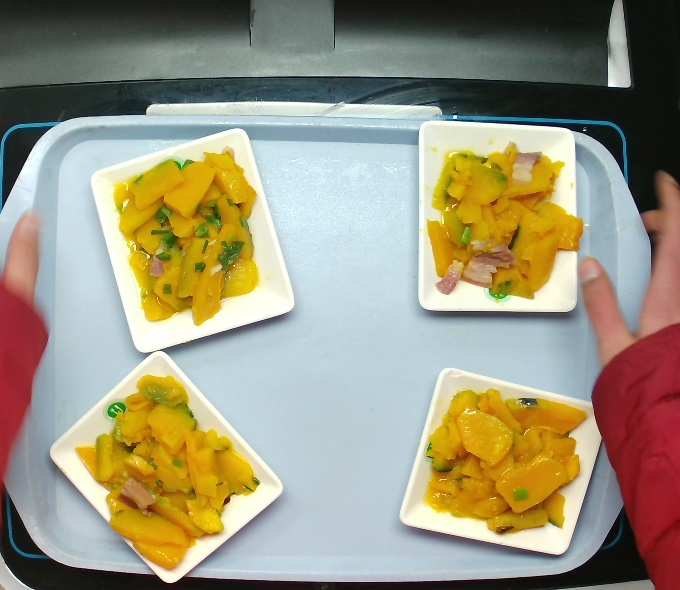wcq-NanGuaChaoLaRou: (69, 371, 263, 571), (109, 142, 263, 328), (423, 136, 587, 303), (419, 385, 590, 537)
